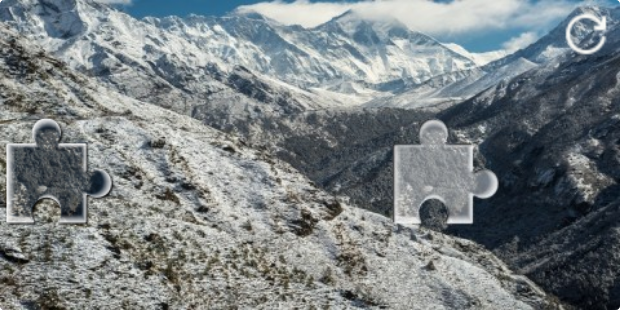target: (393, 119, 498, 224)
